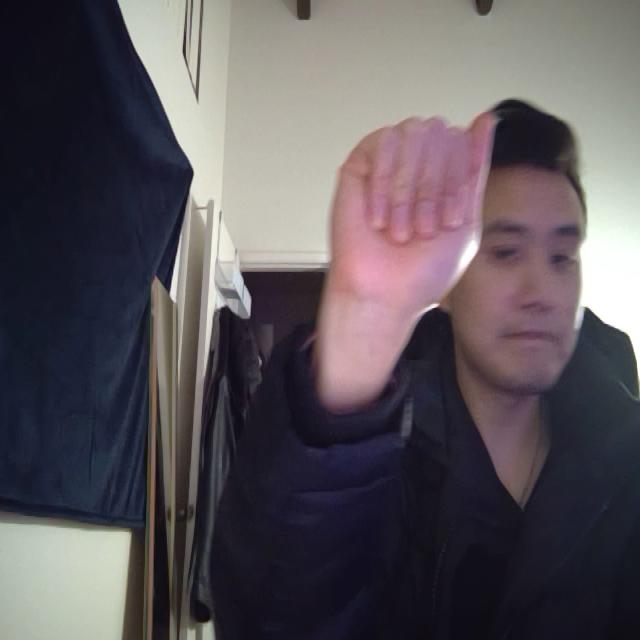A: (315, 91, 513, 384)
